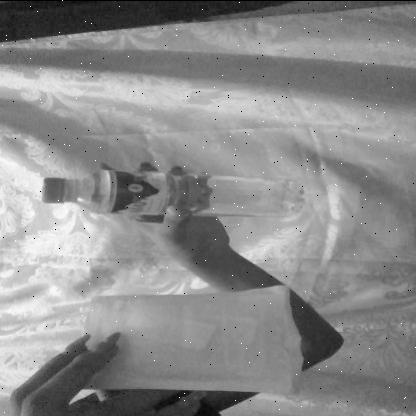Plastic Bottle: (16, 154, 376, 231)
